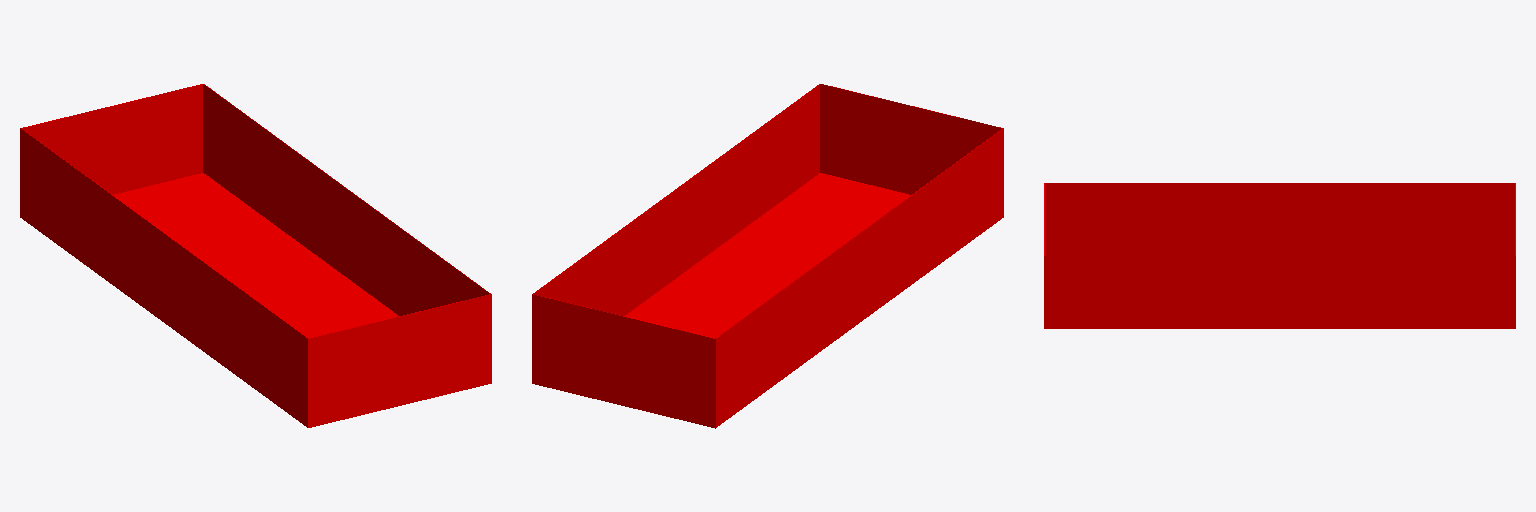
The robot description file, URDF, robot "square.urdf":
<?xml version="1.0" ?>
<robot name="square.urdf">
  <link name="baseLink">
    <contact>
      <lateral_friction value="1.0"/>
      <inertia_scaling value="3.0"/>
    </contact>
    <inertial>
      <origin rpy="0 0 0" xyz="0 0 0"/>
       <mass value=".1"/>
       <inertia ixx="1" ixy="0" ixz="0" iyy="1" iyz="0" izz="1"/>
    </inertial>
    <visual>
      <origin rpy="0 0 0" xyz="0 0 0"/>
      <geometry>
        <mesh filename="box_0.stl" scale="1 1 1" />
      </geometry>
      <material name="red">
        <color rgba="1 0 0 1"/>
      </material>
    </visual>
    <collision>
      <origin rpy="0 0 0" xyz="0 0 0"/>
      <geometry>
        <mesh filename="box_0.obj" scale="1 1 1" />
      </geometry>
    </collision>
  </link>
</robot>

--- Render facts (derived) ---
The picture shows the robot from 3 angles, left to right: view 1: azimuth 30°, elevation 25°; view 2: azimuth 150°, elevation 25°; view 3: azimuth 270°, elevation 25°; orthographic projection.
Model square.urdf with 1 links and 0 joints (none), rooted at baseLink, posed all joints at 0.
Visible links, largest first — view 1: baseLink; view 2: baseLink; view 3: baseLink.
Boxes of the visible links, <box> form: baseLink: <box>20,84,491,427</box>; baseLink: <box>532,84,1003,428</box>; baseLink: <box>1044,183,1515,328</box>.
Bounding box of the posed robot: 0.3577 × 0.9732 × 0.1668 m (x, y, z).
Meshes: 1 distinct files referenced, 1 mesh visuals loaded (1 binary STL).